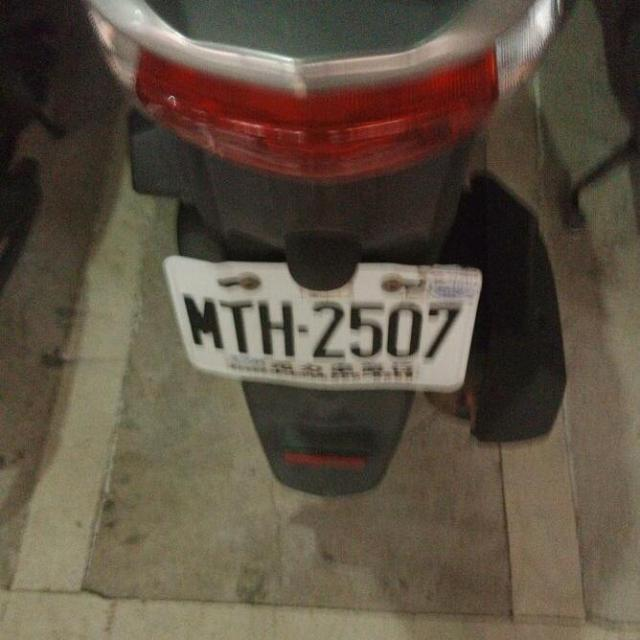W: (157, 234, 488, 405)
